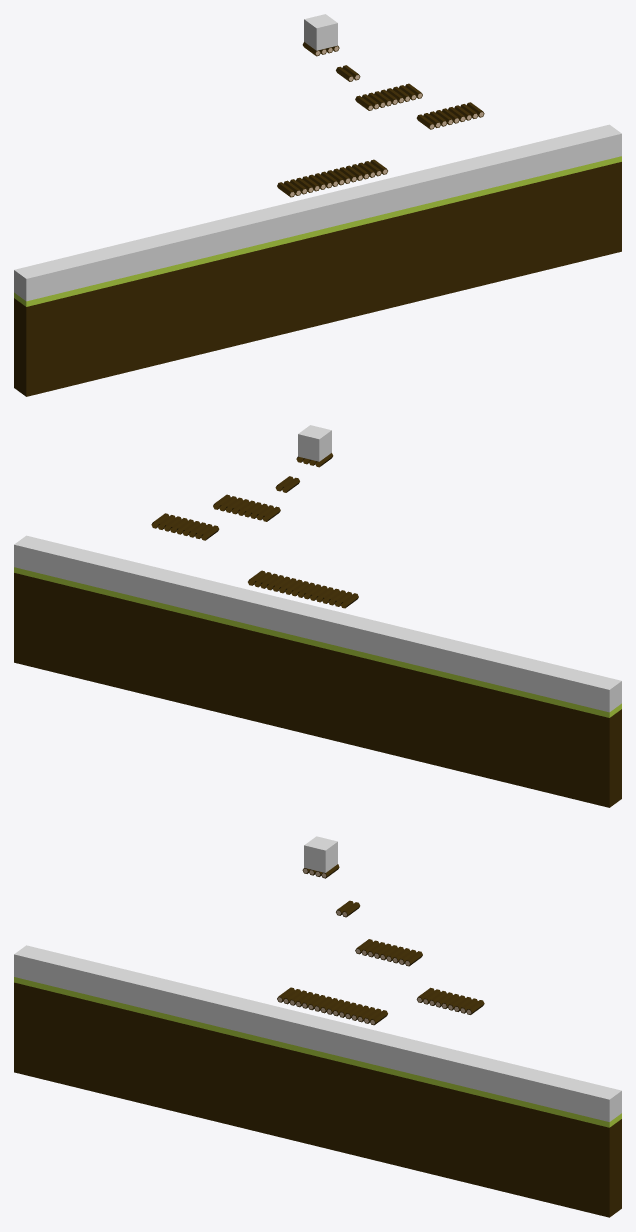
The model's file is ground.glb.
The picture shows the model from 3 angles, top to bottom: view 1: azimuth 30°, elevation 25°; view 2: azimuth 150°, elevation 25°; view 3: azimuth 330°, elevation 25°; orthographic projection.
Visible parts, largest first — view 1: ground, trigger_failure, trigger_success; view 2: ground, trigger_failure, trigger_success; view 3: ground, trigger_failure, trigger_success.
Part boxes in pixels (x1,y1,x2,y2): ground: [14, 42, 621, 396]; trigger_failure: [14, 124, 621, 301]; trigger_success: [304, 14, 337, 50]; ground: [14, 453, 621, 807]; trigger_failure: [14, 535, 621, 712]; trigger_success: [298, 425, 331, 461]; ground: [14, 864, 621, 1217]; trigger_failure: [14, 945, 621, 1121]; trigger_success: [304, 836, 337, 872].
Size of what is drawn, in the model's own units: 55.46 by 26.5 by 2.
